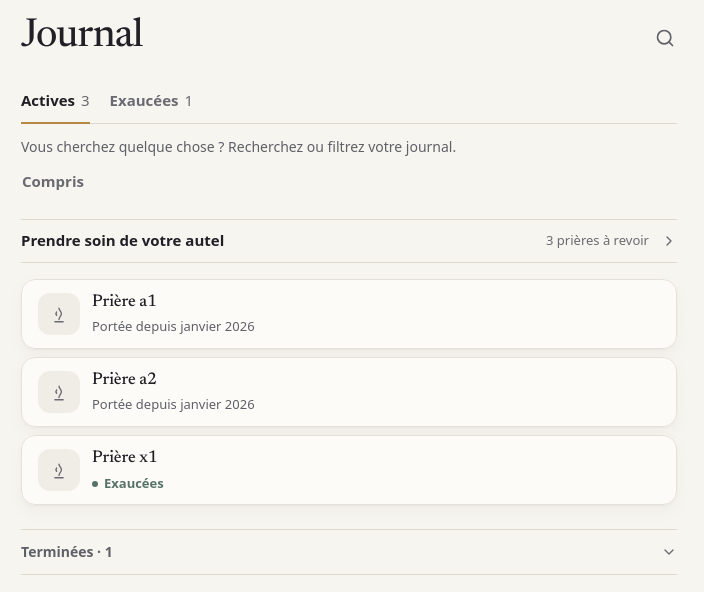
Test: PrayersTab — finished series › stay findable inline while a search is looking
Click the button named "Rechercher..." at [665, 38], box [643, 16, 687, 60]
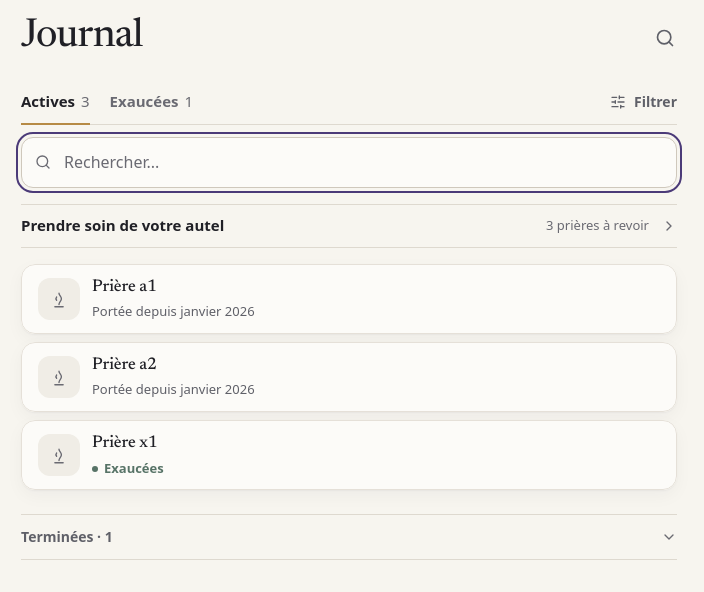
Type "terminé" into the field with placeholder "Rechercher..." at [349, 162], box [21, 137, 677, 188]
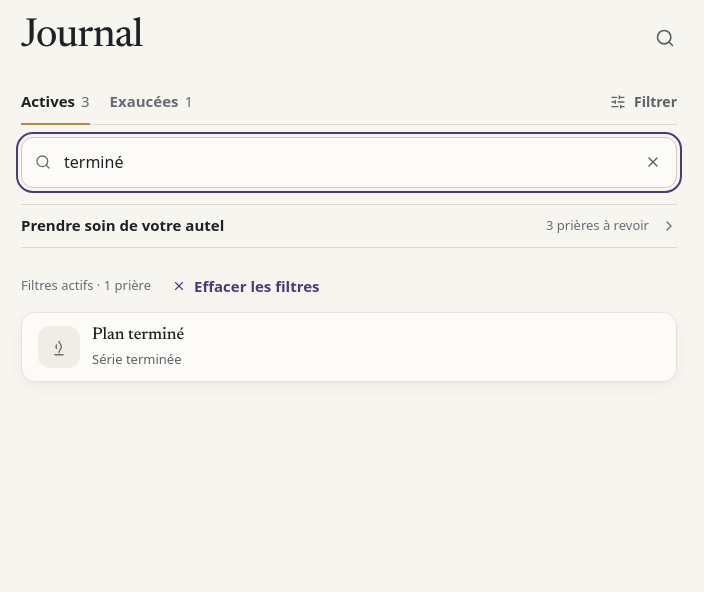
expect the text "Plan terminé" is shown: met, box [92, 327, 184, 344]
expect the button "Terminées" is gone: met
